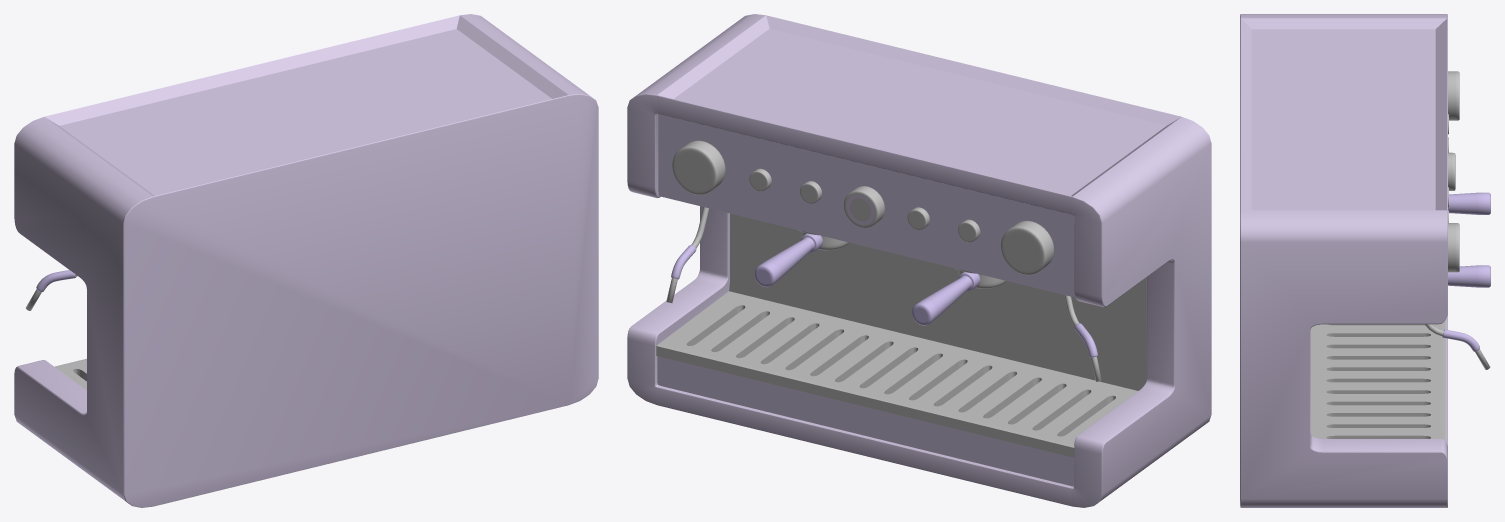
The model's file is coffee-machine.fbx.
3 views of the same model, side by side, from view 1: azimuth 30°, elevation 25°; view 2: azimuth 150°, elevation 25°; view 3: azimuth 270°, elevation 25° (orthographic). The views are drawn at different scales.
Visible parts, largest first — view 1: Body.001; view 2: Body.001, Grid.001, Body-back-paryt.001, Plane.005, Body-front-part.001, Button.001, Button7.001, handle.003, handle.002, Button4.001; view 3: Body.001, Grid.001, handle.002, handle.003, Button.001, Button7.001, Steamer.002, Button4.001.
Part boxes in pixels (bbox=[...]): Body.001: bbox=[14, 14, 598, 507]; Body.001: bbox=[627, 14, 1211, 507]; Grid.001: bbox=[656, 291, 1137, 457]; Body-back-paryt.001: bbox=[729, 213, 1146, 390]; Plane.005: bbox=[658, 114, 1075, 297]; Body-front-part.001: bbox=[657, 356, 1074, 486]; Button.001: bbox=[672, 140, 725, 194]; Button7.001: bbox=[1001, 220, 1054, 275]; handle.003: bbox=[754, 233, 822, 287]; handle.002: bbox=[912, 272, 980, 325]; Button4.001: bbox=[843, 186, 884, 227]; Body.001: bbox=[1240, 14, 1447, 507]; Grid.001: bbox=[1310, 319, 1445, 441]; handle.002: bbox=[1448, 192, 1490, 214]; handle.003: bbox=[1448, 265, 1490, 287]; Button.001: bbox=[1448, 223, 1459, 272]; Button7.001: bbox=[1448, 71, 1459, 120]; Steamer.002: bbox=[1442, 329, 1479, 351]; Button4.001: bbox=[1448, 152, 1455, 190].
Size of the model in its own units: 1171 by 731 by 566.
